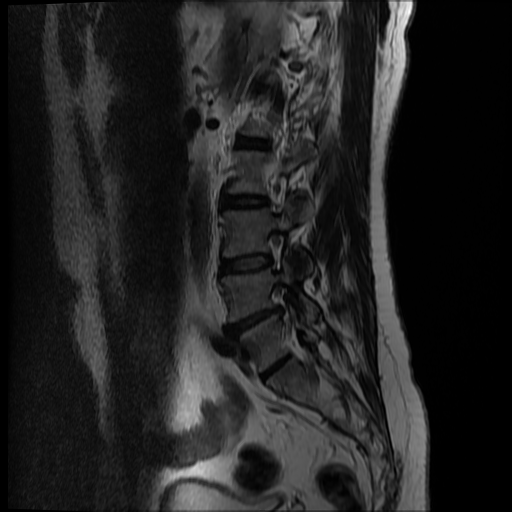LFS0: (256, 222, 292, 280)
